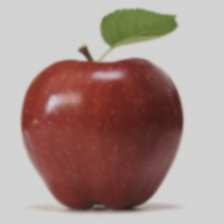apple: (50, 16, 214, 209)
